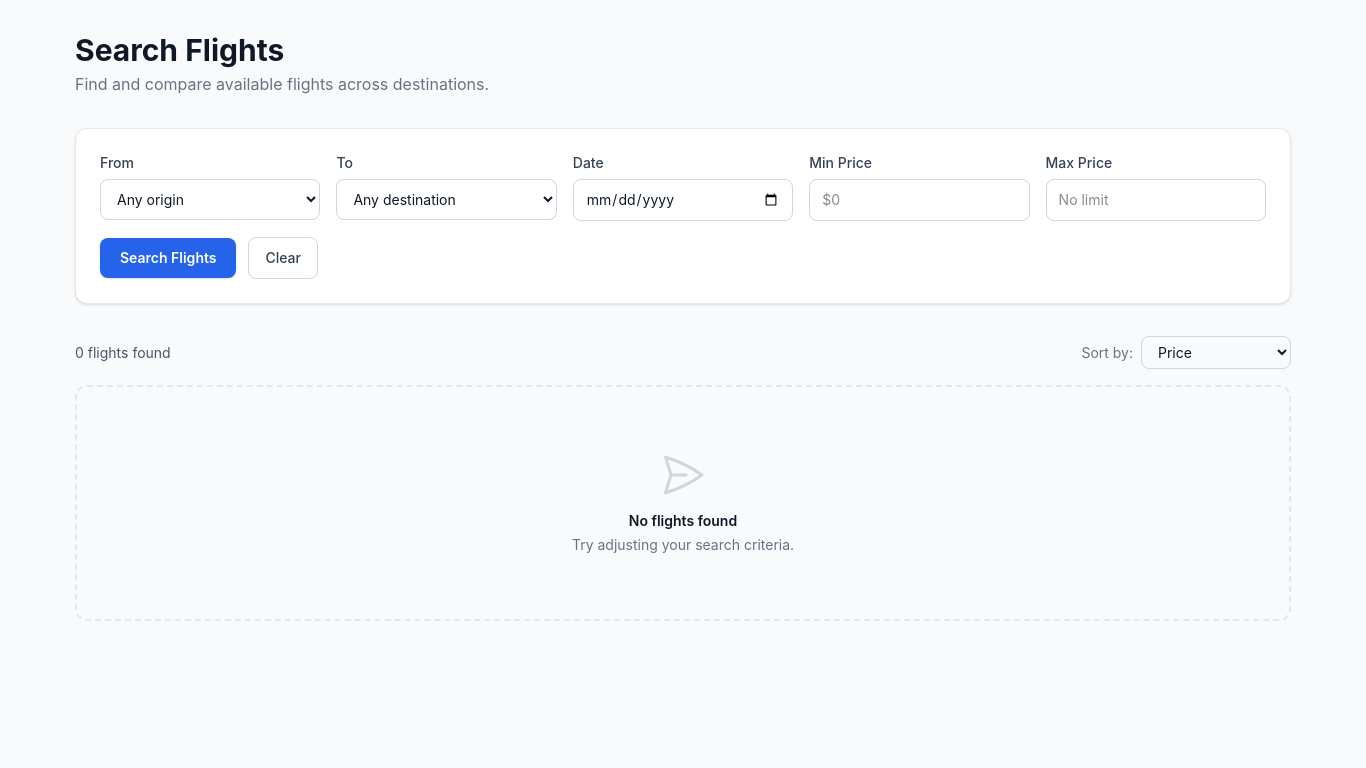
Test: FlightSearchPage › clears form fields when Clear button is clicked
The width and height of the screenshot is (1366, 768).
Type "100" into the number field with placeholder "$0".
click(919, 200); type("100")  # box [809, 179, 1030, 221]
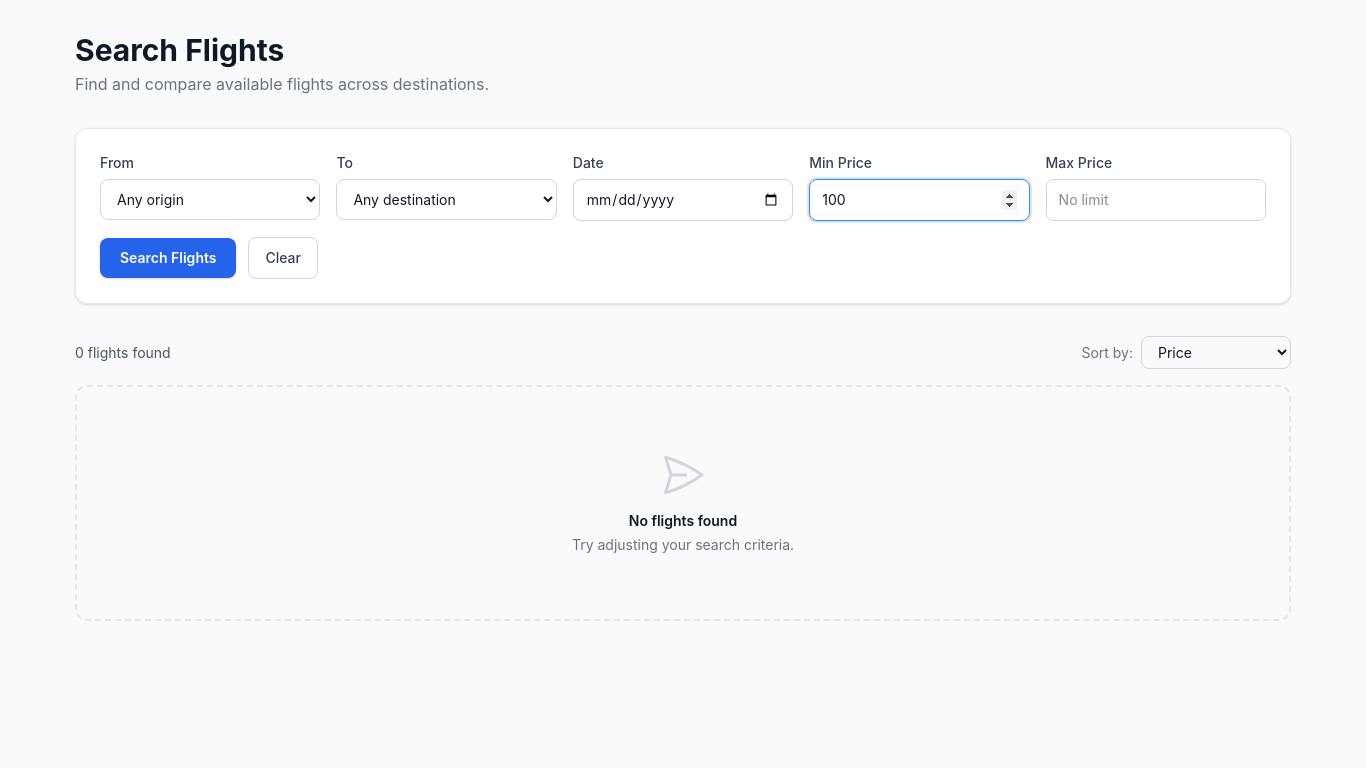
Click the button "Clear".
click(283, 258)  # box [248, 237, 318, 279]
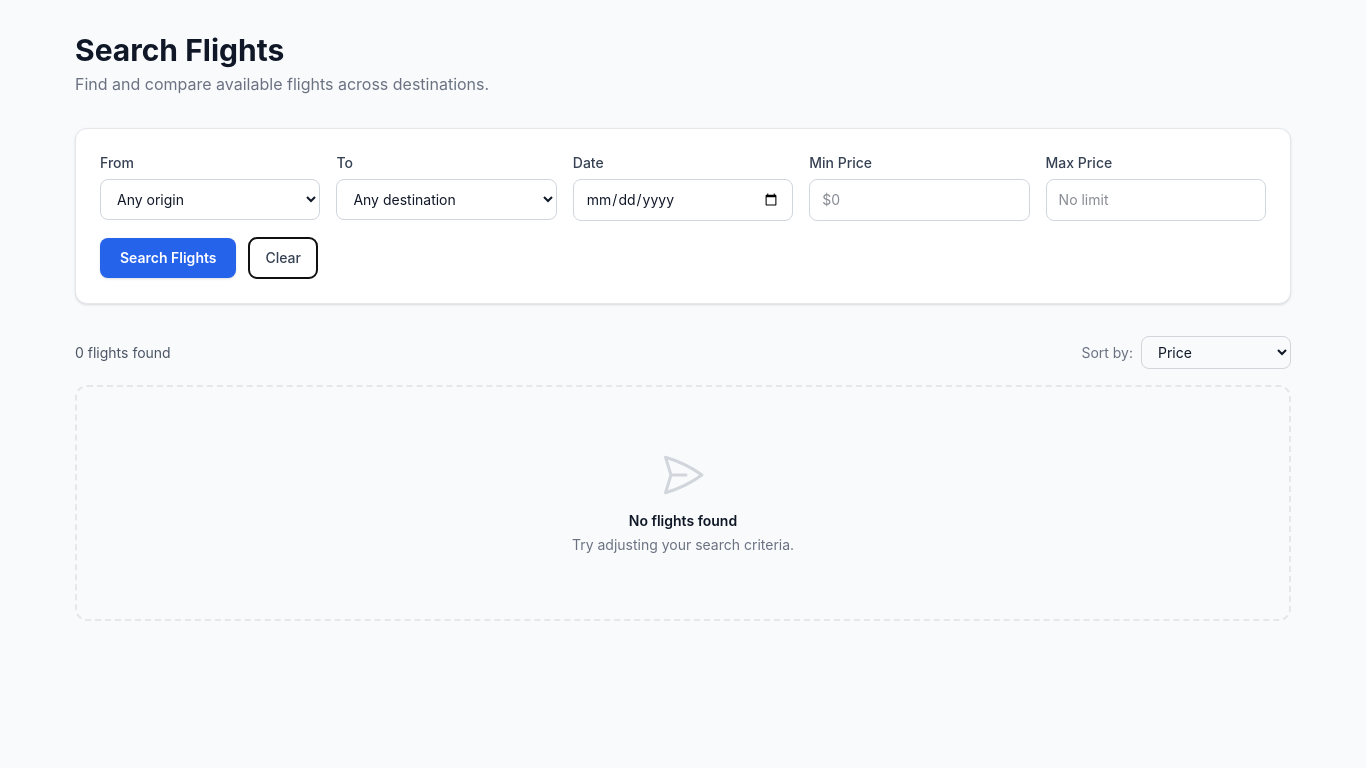
expect the number field with placeholder "$0" is not empty: met, box [809, 179, 1030, 221]
